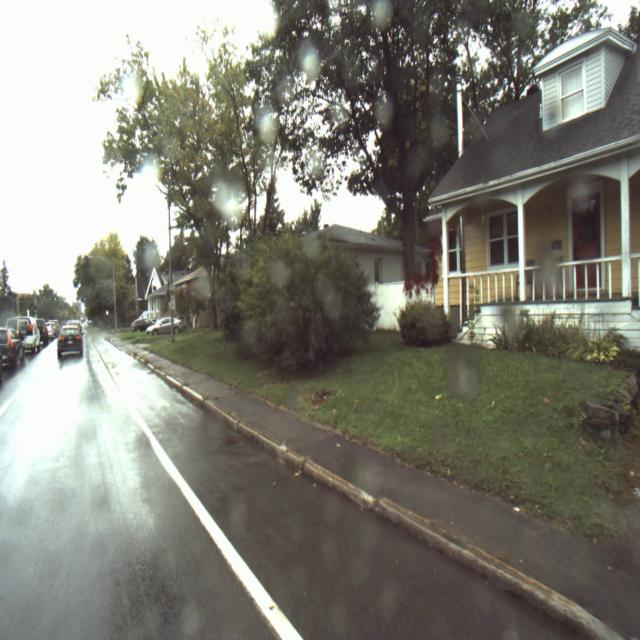car: (0, 326, 25, 374), (10, 315, 40, 355), (57, 323, 83, 360), (145, 318, 183, 338), (37, 317, 57, 345), (131, 318, 145, 334)
